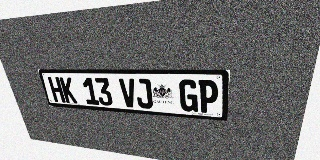1: (81, 77, 100, 105)
3: (94, 78, 113, 106)
G: (179, 79, 198, 112)
H: (47, 77, 66, 103)
J: (134, 78, 153, 109)
K: (59, 77, 78, 103)
P: (198, 80, 219, 114)
V: (119, 78, 138, 108)
